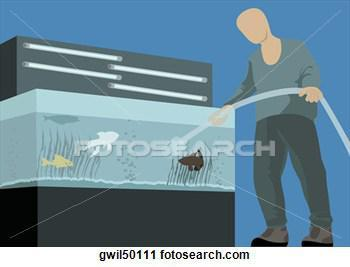person: (222, 8, 337, 251)
